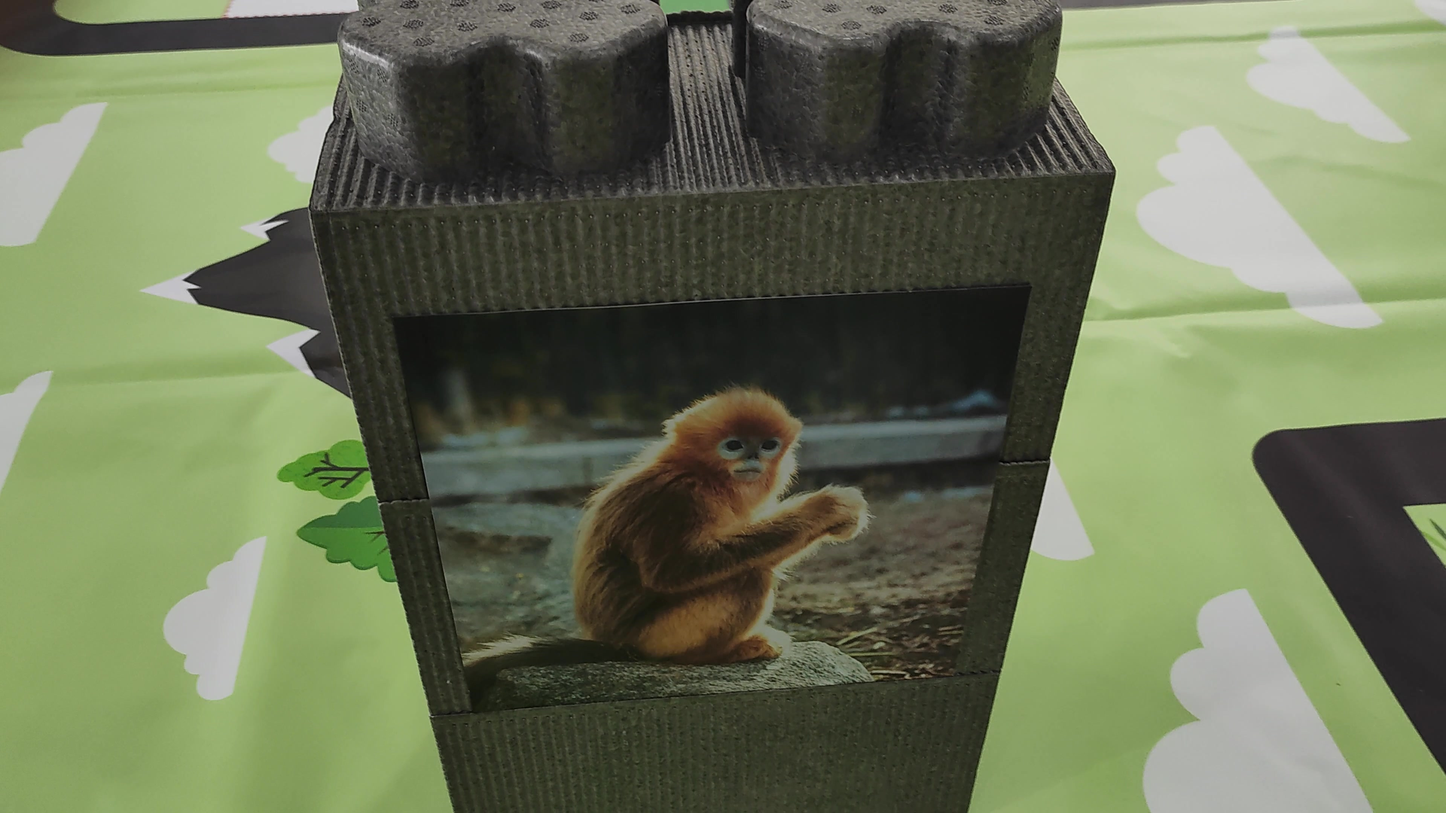monkey: (451, 357, 871, 704)
